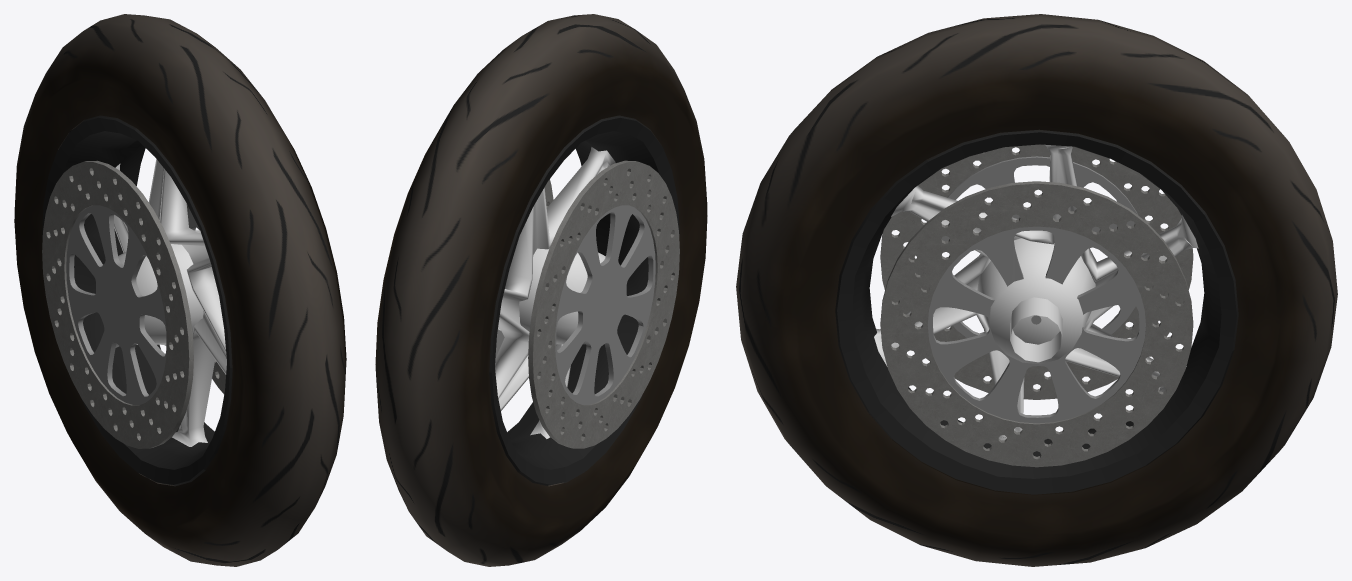
Rendered from FrontTyre.fbx.
3 renders of one model, left to right at view 1: azimuth 30°, elevation 25°; view 2: azimuth 150°, elevation 25°; view 3: azimuth 270°, elevation 25°, orthographic. The views are drawn at different scales.
Parts seen in each view (by area): view 1: FrontTyre; view 2: FrontTyre; view 3: FrontTyre.
Boxes of the visible parts, <box> form: FrontTyre: <box>14,14,346,566</box>; FrontTyre: <box>375,14,707,566</box>; FrontTyre: <box>736,14,1337,566</box>.
Size of the model in its own units: 52.24 by 156 by 156.
4 materials, 2 textured.
